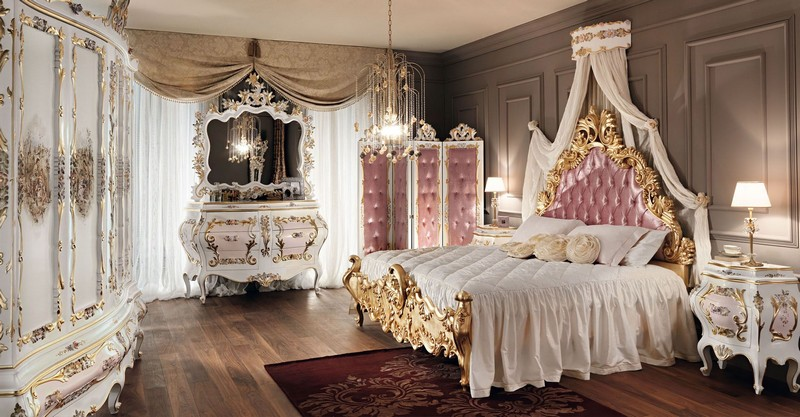bed: (348, 20, 715, 387)
lamp: (728, 177, 781, 273), (482, 171, 509, 231)
stool: (694, 256, 798, 395)
